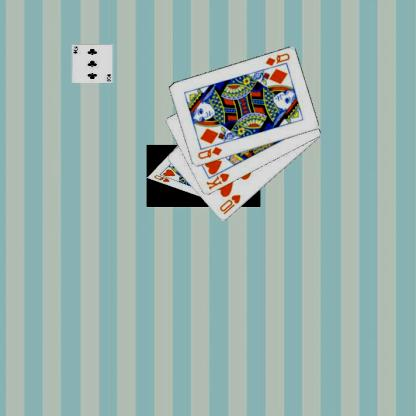10H: (217, 192, 242, 216)
KH: (204, 171, 231, 191)
QD: (195, 144, 223, 161), (263, 51, 291, 67)
